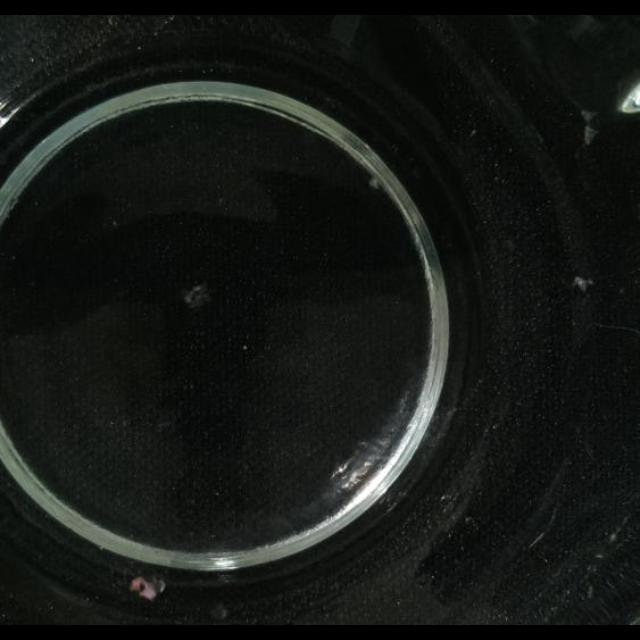Fibre: (560, 279, 634, 345), (183, 282, 209, 306), (572, 276, 592, 292), (368, 176, 382, 190), (586, 584, 594, 598), (469, 129, 477, 139)
microbeads: (130, 576, 158, 600), (157, 419, 173, 431), (608, 530, 620, 542), (440, 494, 450, 504), (594, 552, 604, 560), (466, 515, 474, 525), (30, 56, 36, 64), (242, 344, 248, 351)
